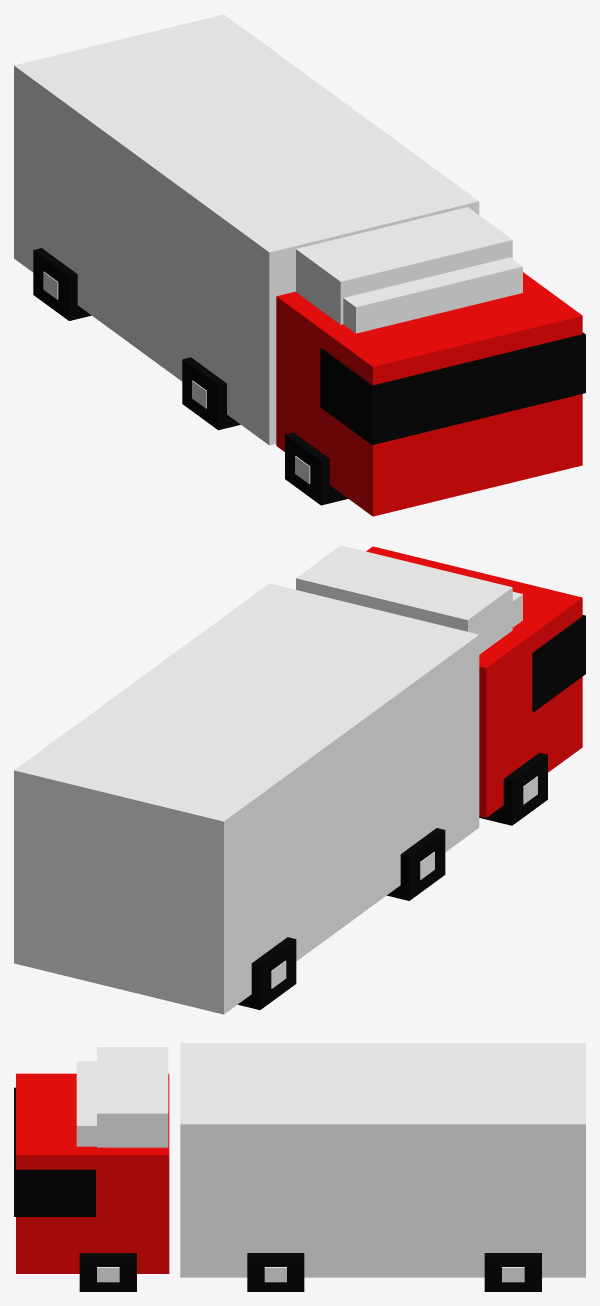
File: truck_CrossyRoad.gltf
3 renders of one model, top to bottom at view 1: azimuth 30°, elevation 25°; view 2: azimuth 150°, elevation 25°; view 3: azimuth 270°, elevation 25°, orthographic. The views are drawn at different scales.
Parts seen in each view (by area): view 1: pCube51, pCube52, pCube53, pCube67, pCube68, pCube65, pCube61, pCube63; view 2: pCube51, pCube52, pCube67, pCube53, pCube65, pCube61, pCube63; view 3: pCube51, pCube52, pCube67, pCube53, pCube54, pCube56, pCube59, pCube68, pCube55, pCube60, pCube57.
Boxes of the visible parts, bbox=[...] form: pCube51: bbox=[14, 14, 479, 445]; pCube52: bbox=[276, 272, 582, 516]; pCube53: bbox=[320, 332, 585, 444]; pCube67: bbox=[296, 207, 512, 324]; pCube68: bbox=[343, 257, 522, 333]; pCube65: bbox=[285, 432, 348, 505]; pCube61: bbox=[33, 248, 91, 320]; pCube63: bbox=[182, 357, 240, 430]; pCube51: bbox=[14, 583, 479, 1014]; pCube52: bbox=[366, 546, 582, 817]; pCube67: bbox=[296, 545, 512, 654]; pCube53: bbox=[532, 615, 585, 711]; pCube65: bbox=[479, 752, 547, 825]; pCube61: bbox=[238, 937, 296, 1009]; pCube63: bbox=[387, 828, 445, 900]; pCube51: bbox=[180, 1043, 585, 1277]; pCube52: bbox=[16, 1073, 169, 1273]; pCube67: bbox=[97, 1047, 168, 1147]; pCube53: bbox=[14, 1087, 95, 1216]; pCube54: bbox=[79, 1253, 136, 1291]; pCube56: bbox=[247, 1253, 304, 1291]; pCube59: bbox=[484, 1253, 541, 1291]; pCube68: bbox=[76, 1061, 96, 1146]; pCube55: bbox=[97, 1267, 119, 1282]; pCube60: bbox=[502, 1267, 524, 1282]; pCube57: bbox=[264, 1267, 286, 1282].
Bounding box in the file's own units: 6.42 × 5.63 × 17.4.
